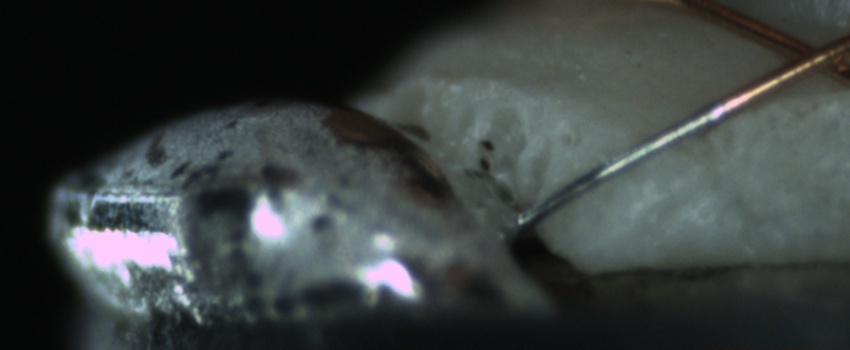CL: (763, 24, 849, 87)
TS: (515, 105, 725, 227)
